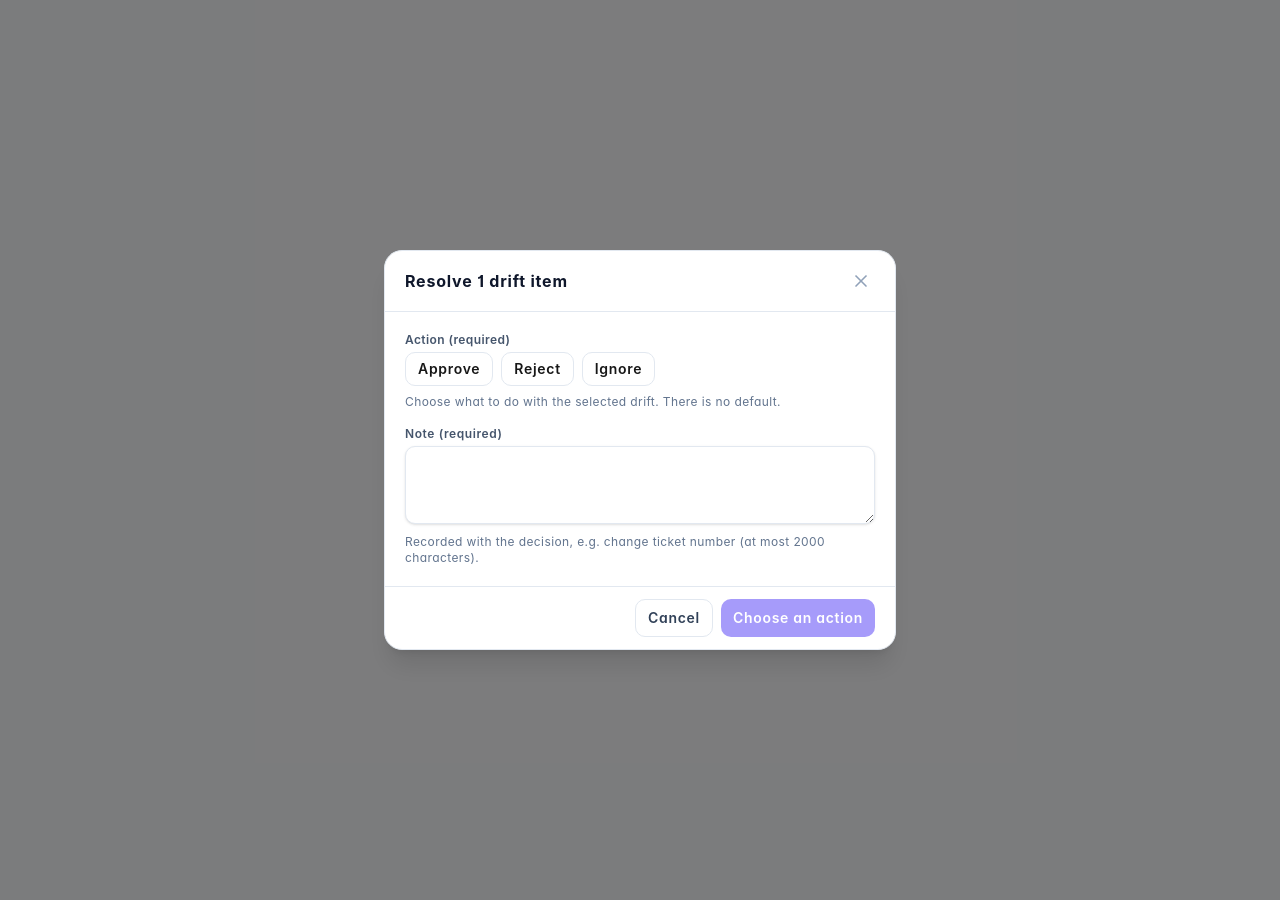
Test: ResolveModal › 409 awaiting_confirmation: shows the message and does not close the modal
Click the radio button labelled "Approve". click: {"x": 449, "y": 369}
box: [405,352,493,386]
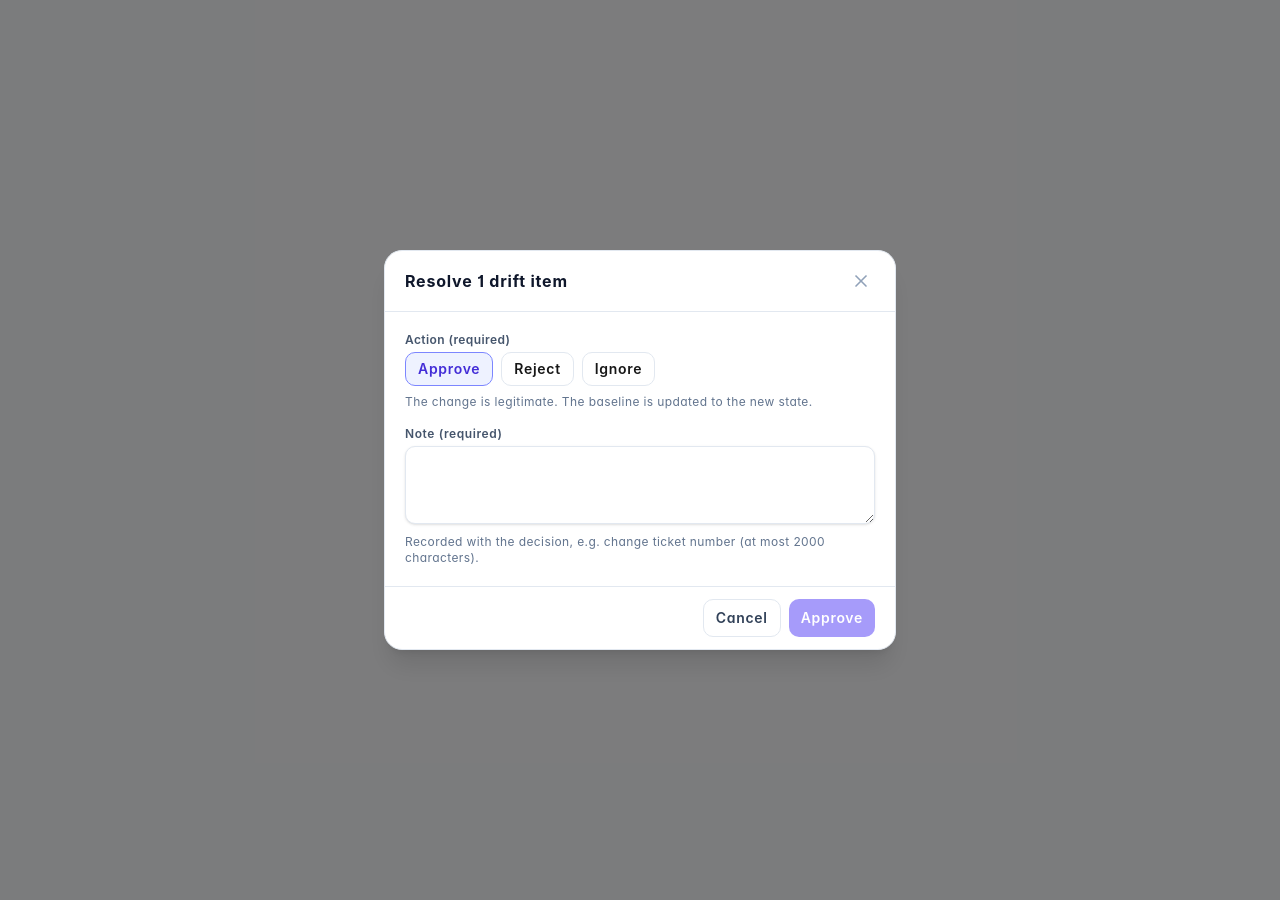
Type "CHG-1" into the text box labelled "Note (required)". click: {"x": 640, "y": 485}
box: [405,446,875,524]
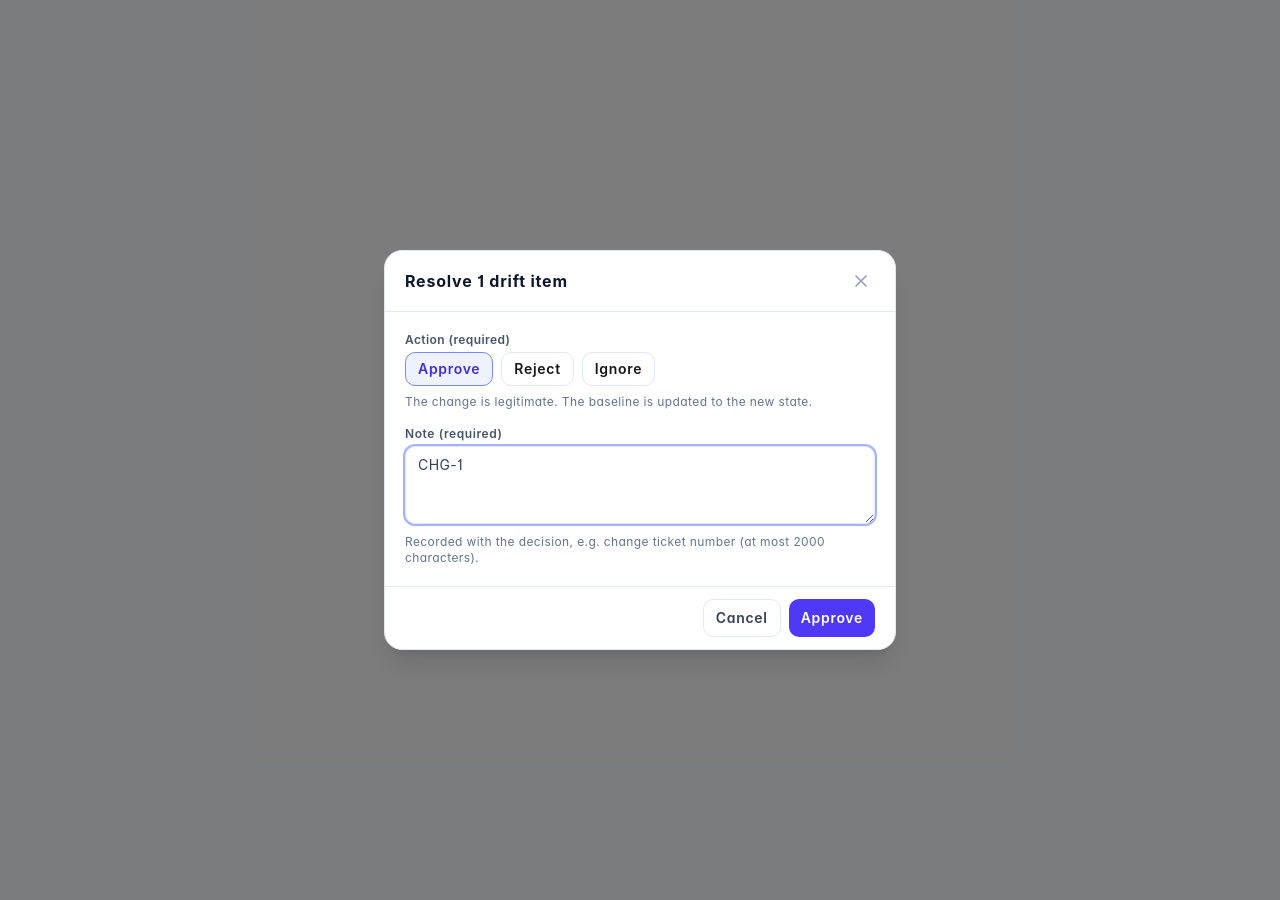
Click the button "Approve". click: {"x": 832, "y": 618}
box: [789,599,875,637]
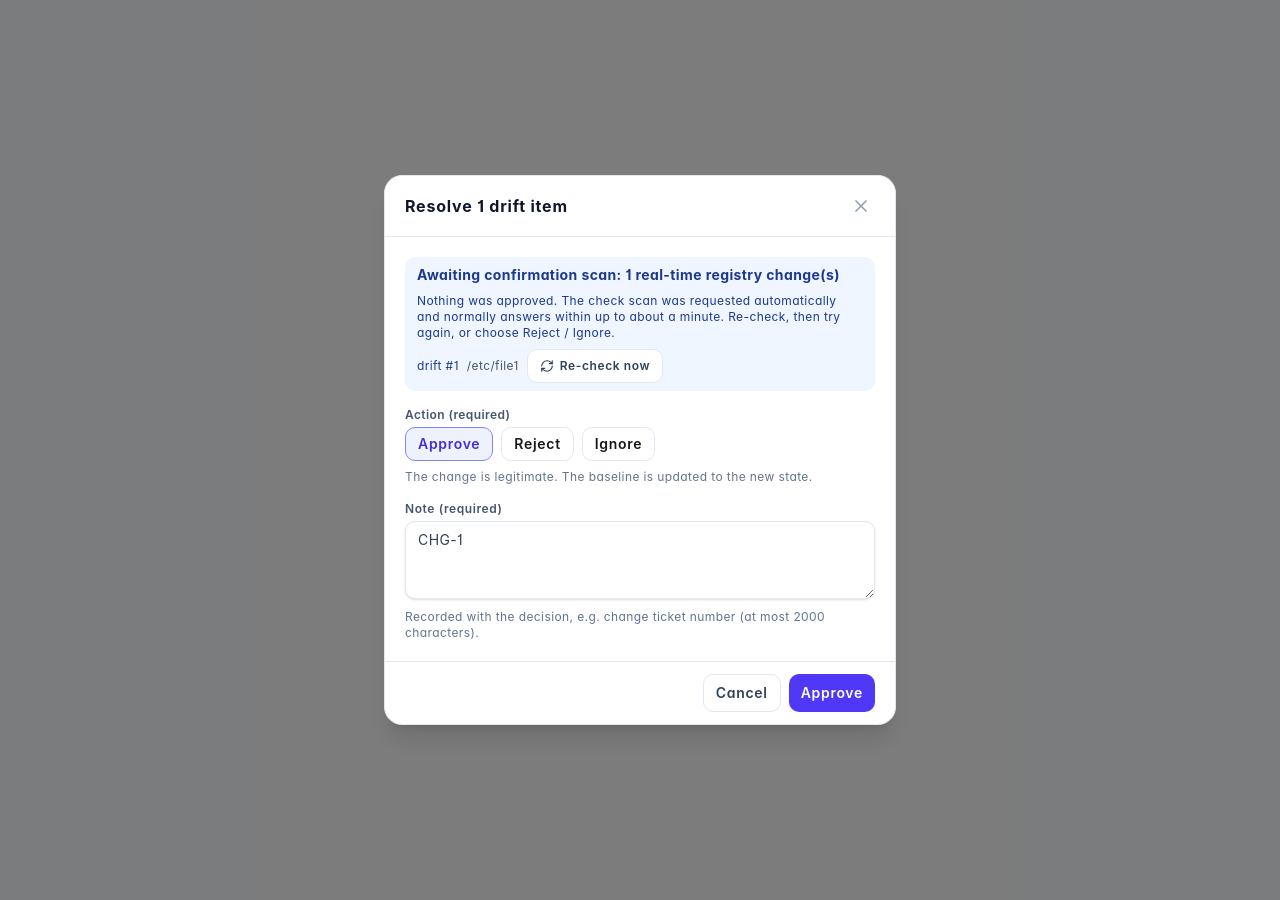
Expected: the dialog is shown, [384,175,896,725]
Now the text "Awaiting confirmation scan: 1 real-time registry change(s)" is shown, box [417,266,840,283]
